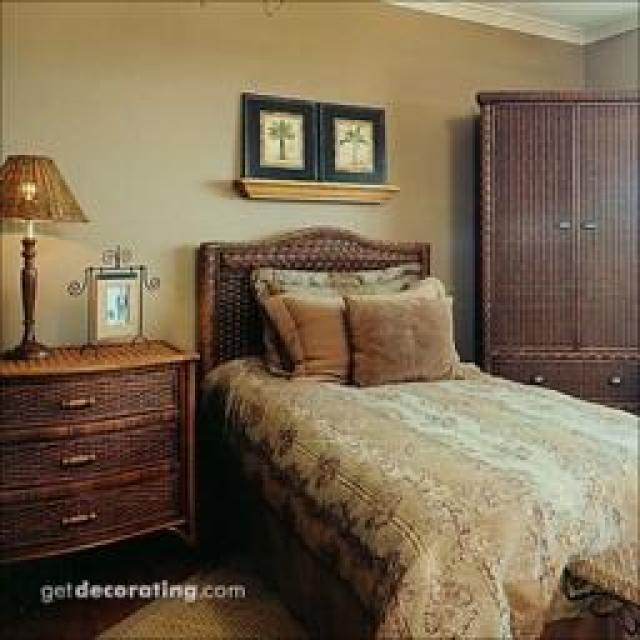bed: (192, 225, 638, 637)
cupboard: (472, 85, 638, 420), (0, 335, 200, 565)
lamps: (0, 152, 90, 358)
